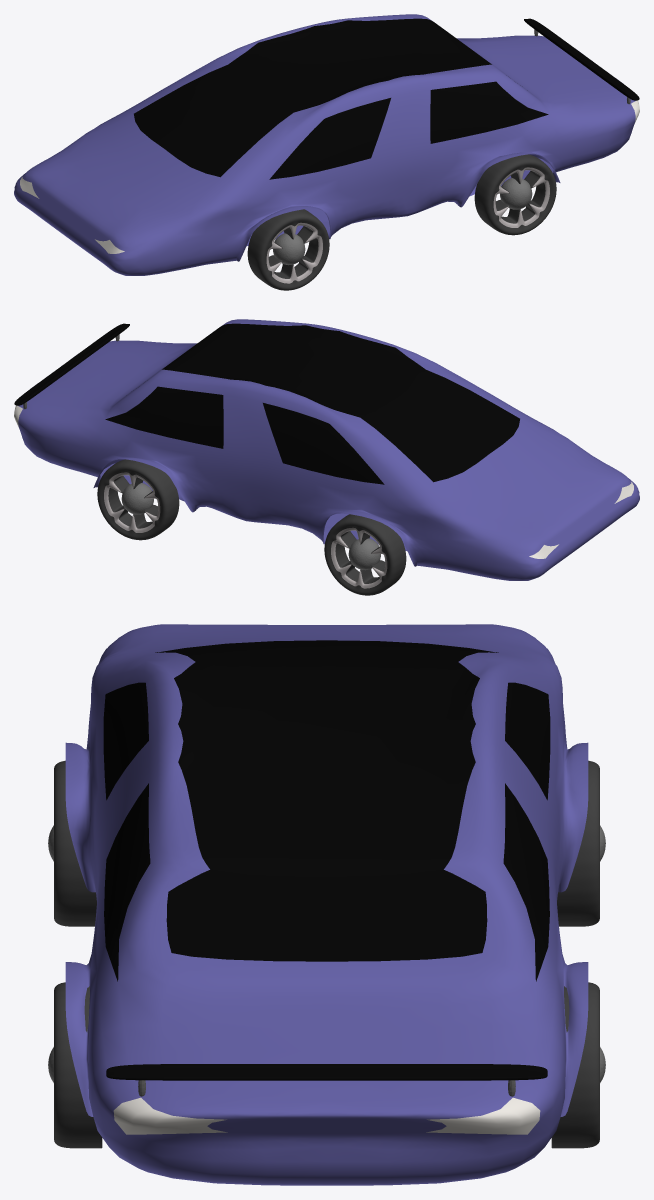
Rendered from carnew.fbx.
The picture shows the model from 3 angles, top to bottom: view 1: azimuth 30°, elevation 25°; view 2: azimuth 150°, elevation 25°; view 3: azimuth 270°, elevation 25°; orthographic projection. The views are drawn at different scales.
Parts seen in each view (by area): view 1: Cube; view 2: Cube; view 3: Cube.
Boxes of the visible parts, box(x1,y1,x2,y2) form: Cube: box(14, 14, 639, 290); Cube: box(14, 319, 639, 595); Cube: box(48, 624, 605, 1185).
Bounding box in the file's own units: 5.9 × 1.66 × 2.65.
